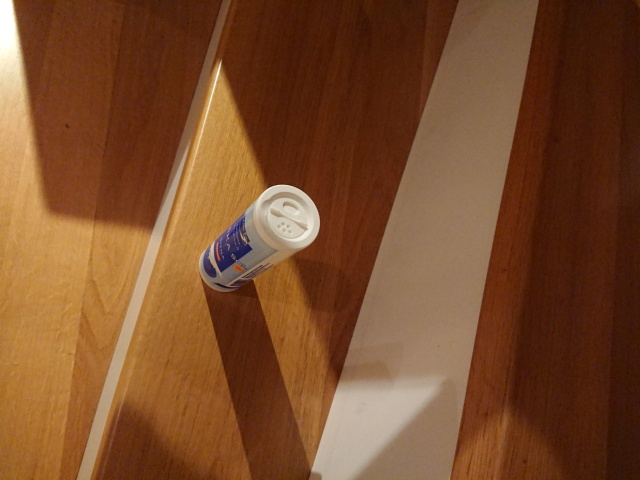Solana Pag Fine Sea Salt 250g: (196, 182, 324, 296)
